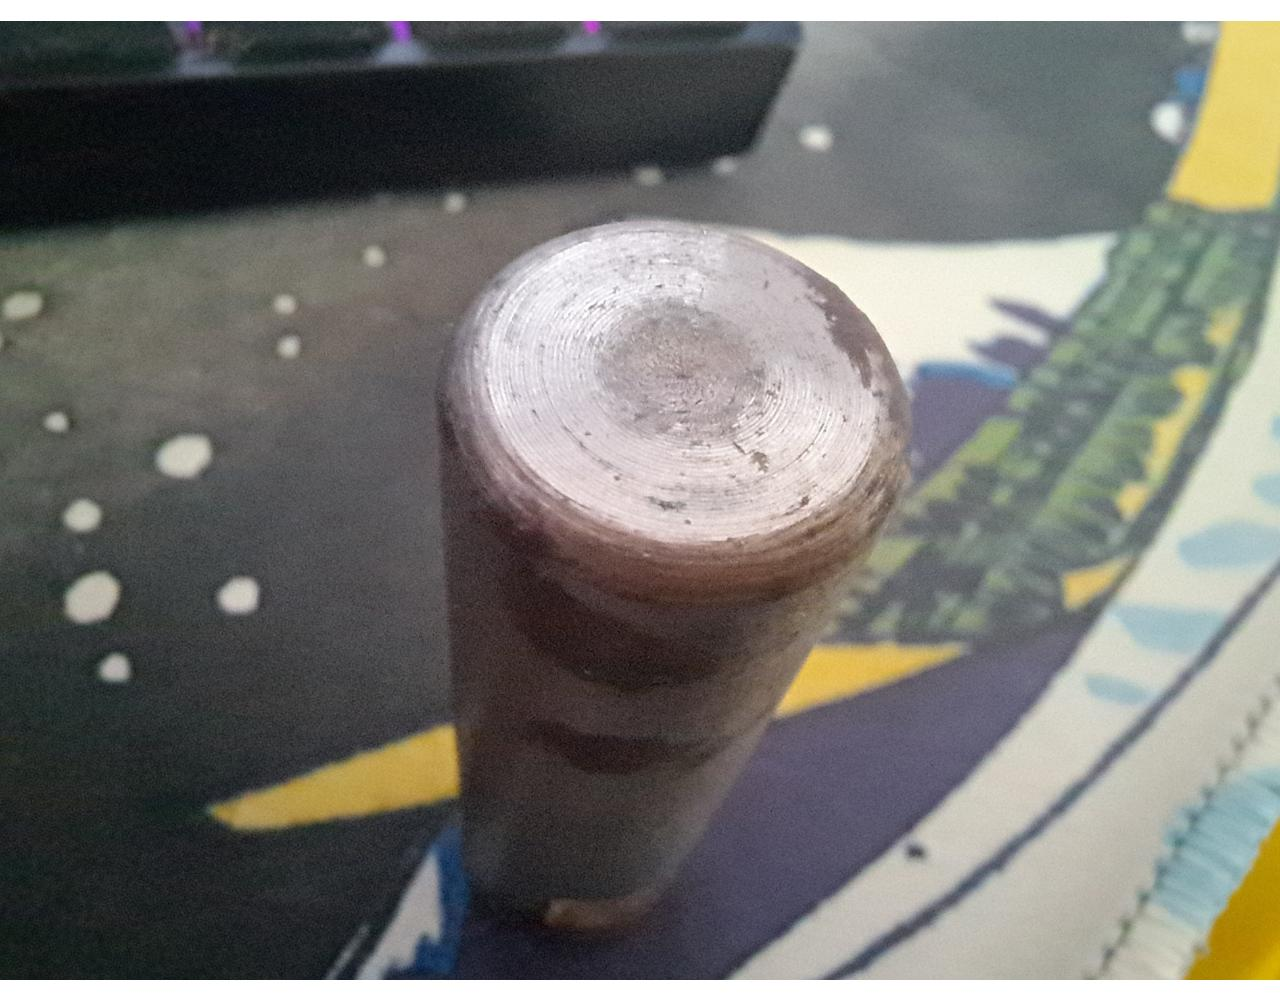planson: (442, 218, 911, 942)
